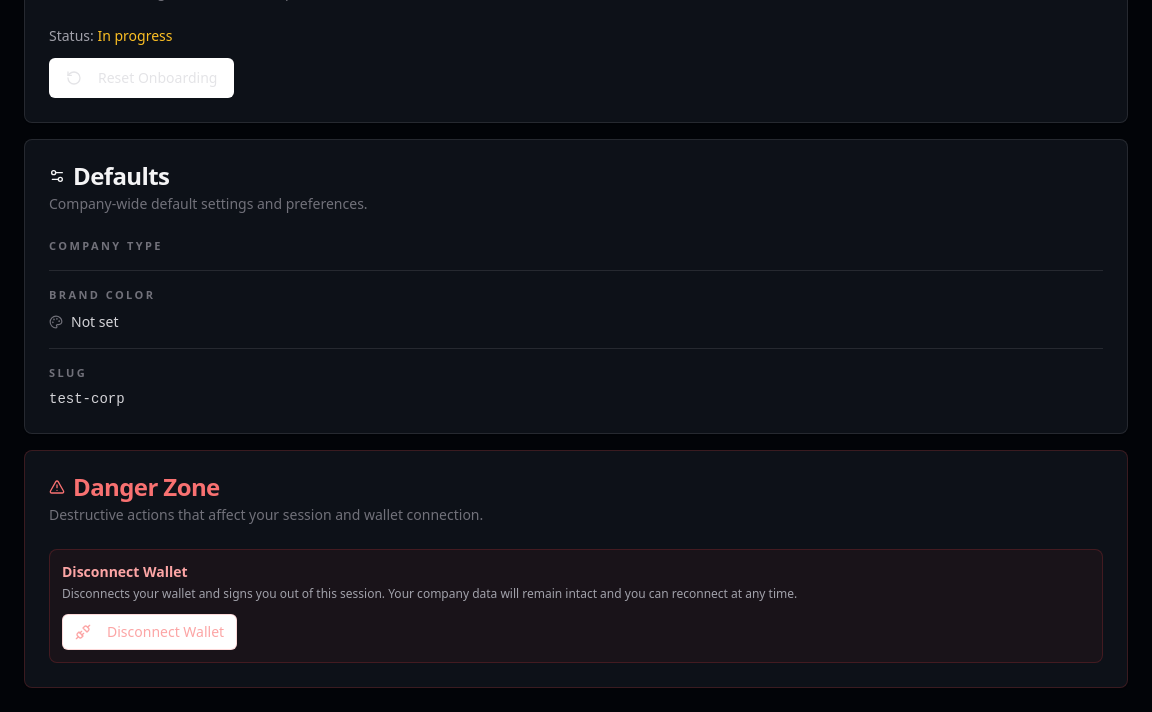
Test: SettingsPage › disconnect wallet button triggers real thirdweb disconnect and navigates away
The image size is (1152, 712).
Later steps or results of the test are not shown.
(page scrolled)
Check: the text "Danger Zone" is shown, box [49,470,220,503]
# Click the initial Disconnect Wallet button to reveal confirmation
Step 1. Click the button "Disconnect Wallet" → [150, 632], box [62,614,237,650]
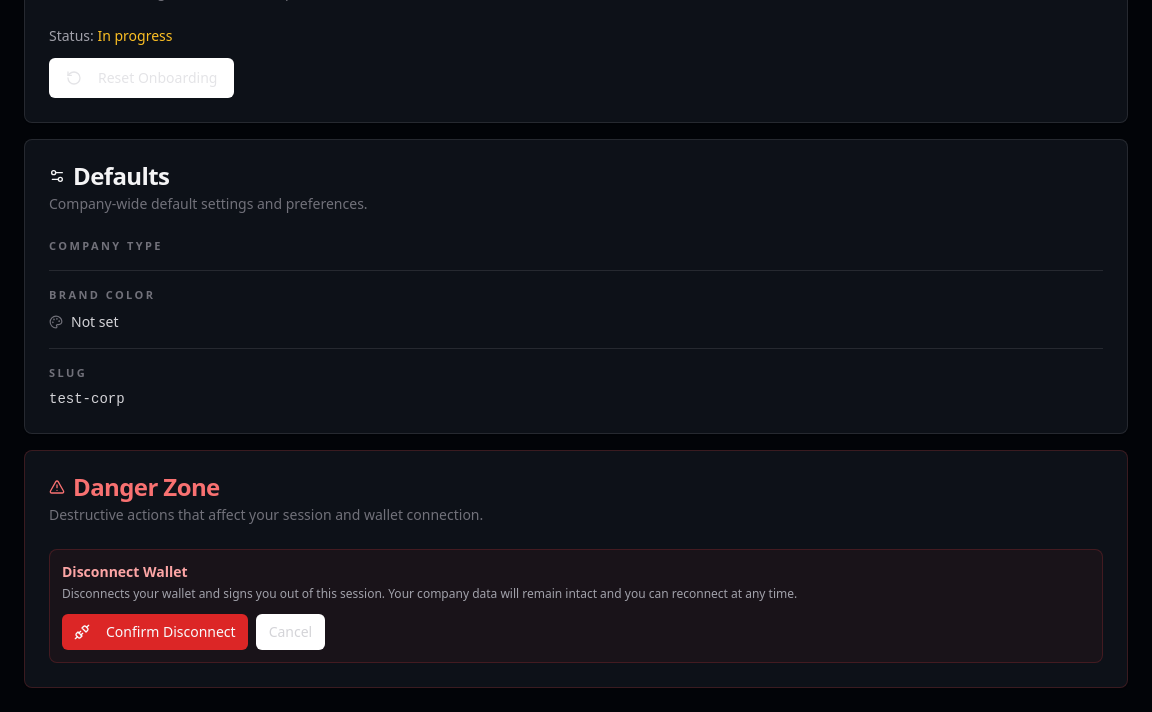
Check: the button "Confirm Disconnect" is shown, box [62,614,248,650]
